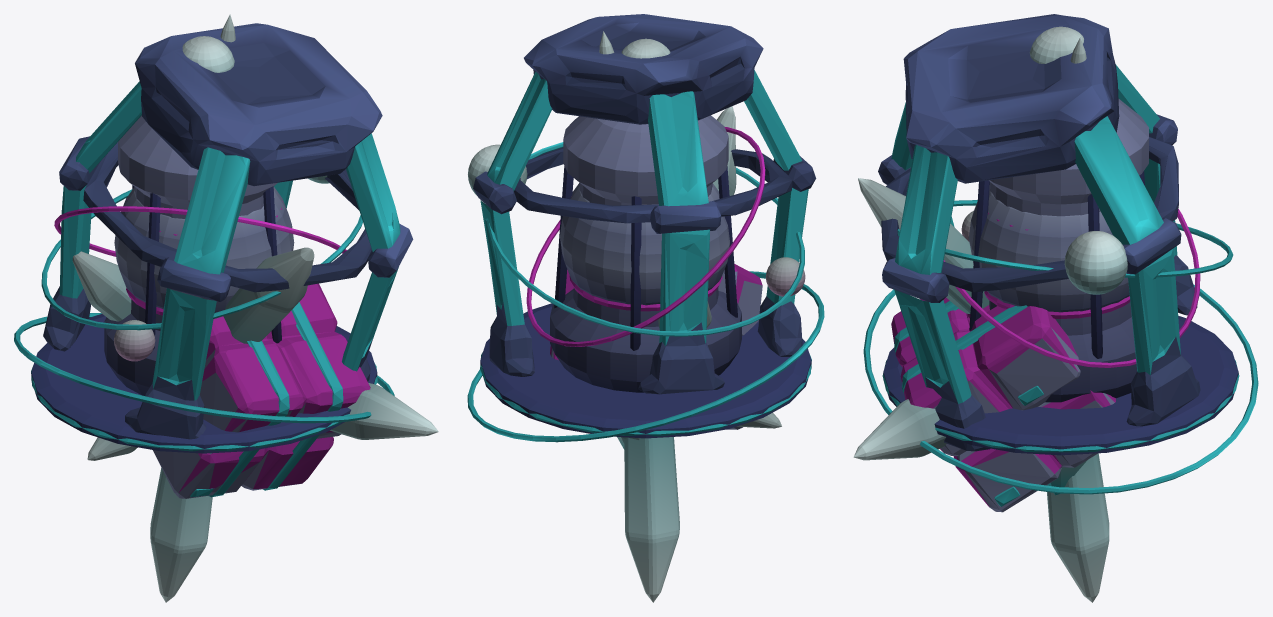
The model's file is core-s4-DFXR6E8I.glb.
3 views of the same model, side by side, from view 1: azimuth 30°, elevation 25°; view 2: azimuth 150°, elevation 25°; view 3: azimuth 270°, elevation 25° (orthographic). The views are drawn at different scales.
Visible parts, largest first — view 1: sc_z0_3, sc_debris_3, sc_z1_3, sc_z3_3, sc_z2_3; view 2: sc_z0_3, sc_z3_3, sc_z2_3, sc_z1_3, sc_debris_3; view 3: sc_z0_3, sc_debris_3, sc_z1_3, sc_z2_3, sc_z3_3.
Boxes of the visible parts, x1=… form: sc_z0_3: x1=31, y1=23, x2=413, y2=453; sc_debris_3: x1=153, y1=283, x2=370, y2=498; sc_z1_3: x1=14, y1=14, x2=438, y2=602; sc_z3_3: x1=104, y1=36, x2=282, y2=395; sc_z2_3: x1=41, y1=175, x2=362, y2=361; sc_z0_3: x1=473, y1=14, x2=816, y2=449; sc_z3_3: x1=550, y1=38, x2=741, y2=392; sc_z2_3: x1=468, y1=127, x2=805, y2=346; sc_z1_3: x1=467, y1=31, x2=824, y2=602; sc_debris_3: x1=550, y1=264, x2=762, y2=429; sc_z0_3: x1=878, y1=14, x2=1239, y2=495; sc_debris_3: x1=891, y1=297, x2=1115, y2=512; sc_z1_3: x1=853, y1=37, x2=1258, y2=602; sc_z2_3: x1=897, y1=185, x2=1233, y2=367; sc_z3_3: x1=969, y1=26, x2=1149, y2=402.
Size of the model in its own units: 10.92 by 18.48 by 11.41.
